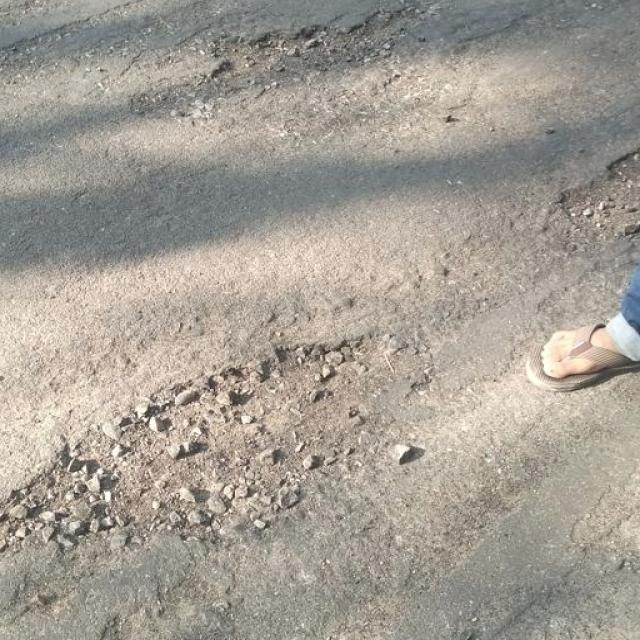road-pothole: (0, 330, 399, 564), (104, 8, 415, 125)
